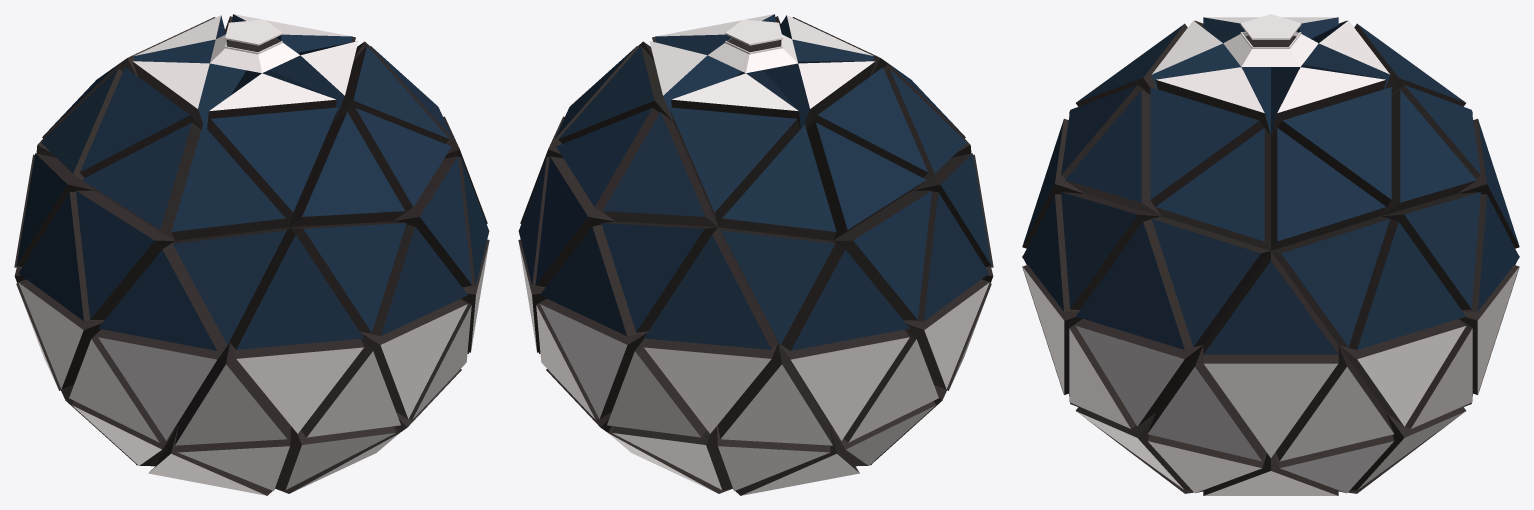
The model's file is building2.fbx.
3 views of the same model, side by side, from view 1: azimuth 30°, elevation 25°; view 2: azimuth 150°, elevation 25°; view 3: azimuth 270°, elevation 25° (orthographic). The views are drawn at different scales.
Visible parts, largest first — view 1: Skyscraper; view 2: Skyscraper; view 3: Skyscraper.
Part boxes in pixels (box(x1,y1,x2,y2)): Skyscraper: box(14, 14, 489, 495); Skyscraper: box(518, 14, 993, 495); Skyscraper: box(1022, 14, 1519, 495).
Bounding box in the file's own units: 219 × 214 × 228.
